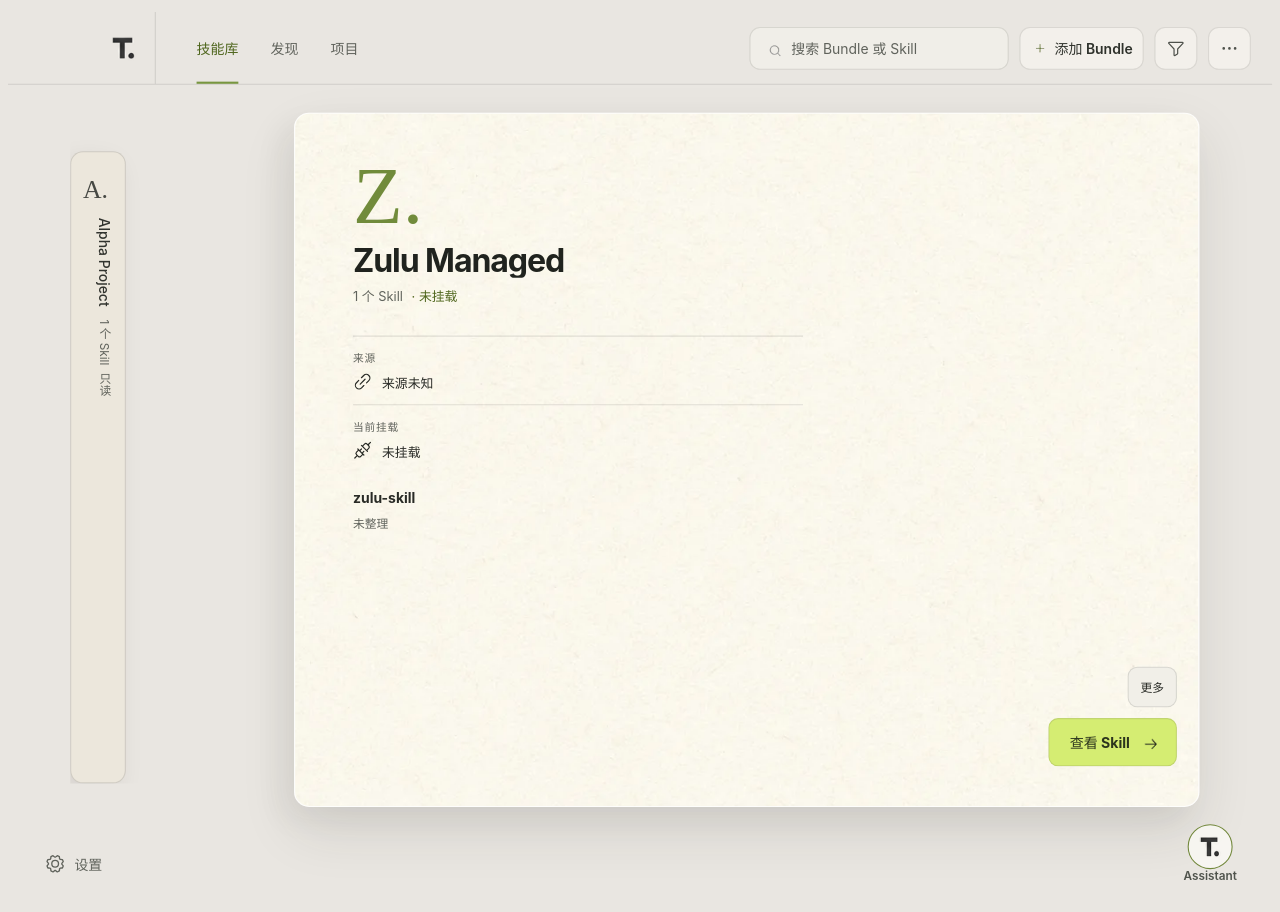
Test: 主题功能等价 › layers 通过共享排序入口按名称浏览并保留当前 Bundle
Expected: the element "Zulu Managed" is shown, [353, 241, 803, 532]
Click the heading named "筛选与排序：全部 Bundle · 管理状态优先".
click(1176, 48)  # box [1154, 26, 1197, 69]
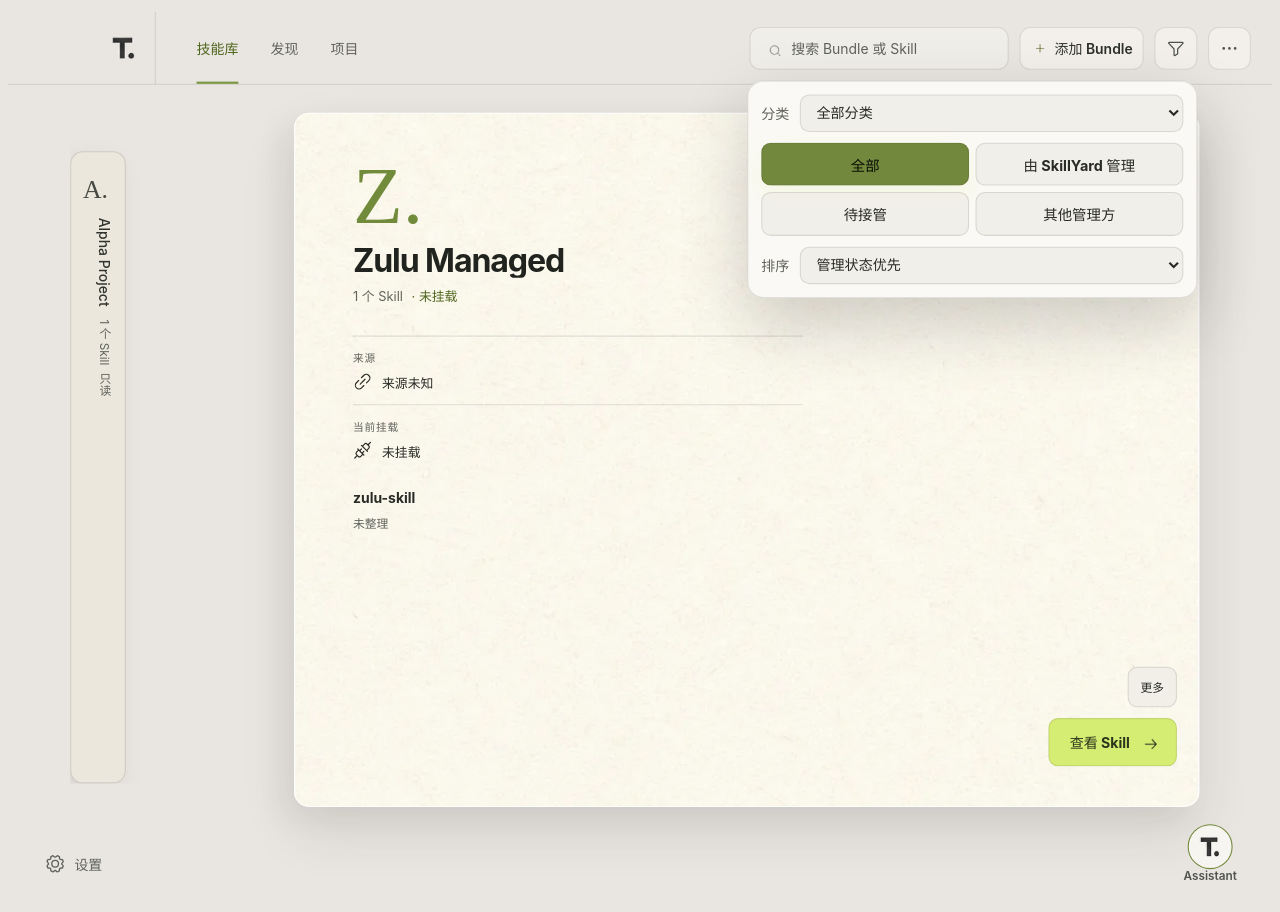
Now the dropdown labelled "排序" shows "管理状态优先"
Select "名称 A–Z" in the dropdown labelled "排序" at (992, 265), box [800, 246, 1183, 284]
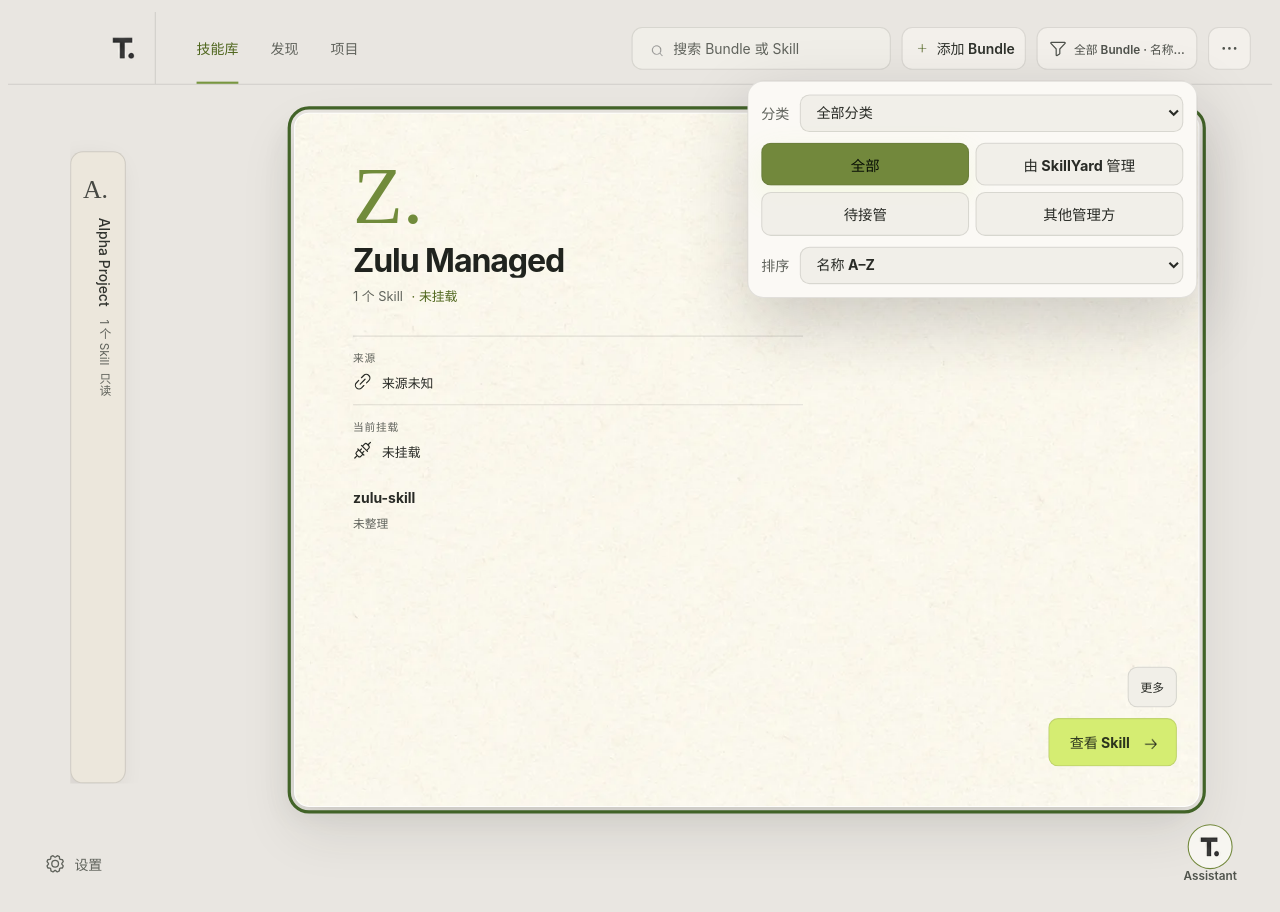
Expected: the element "Zulu Managed" is shown, [353, 241, 803, 532]
Expected: the element with class "layers-library-sheet" is shown, [294, 113, 1199, 807]
Press Home
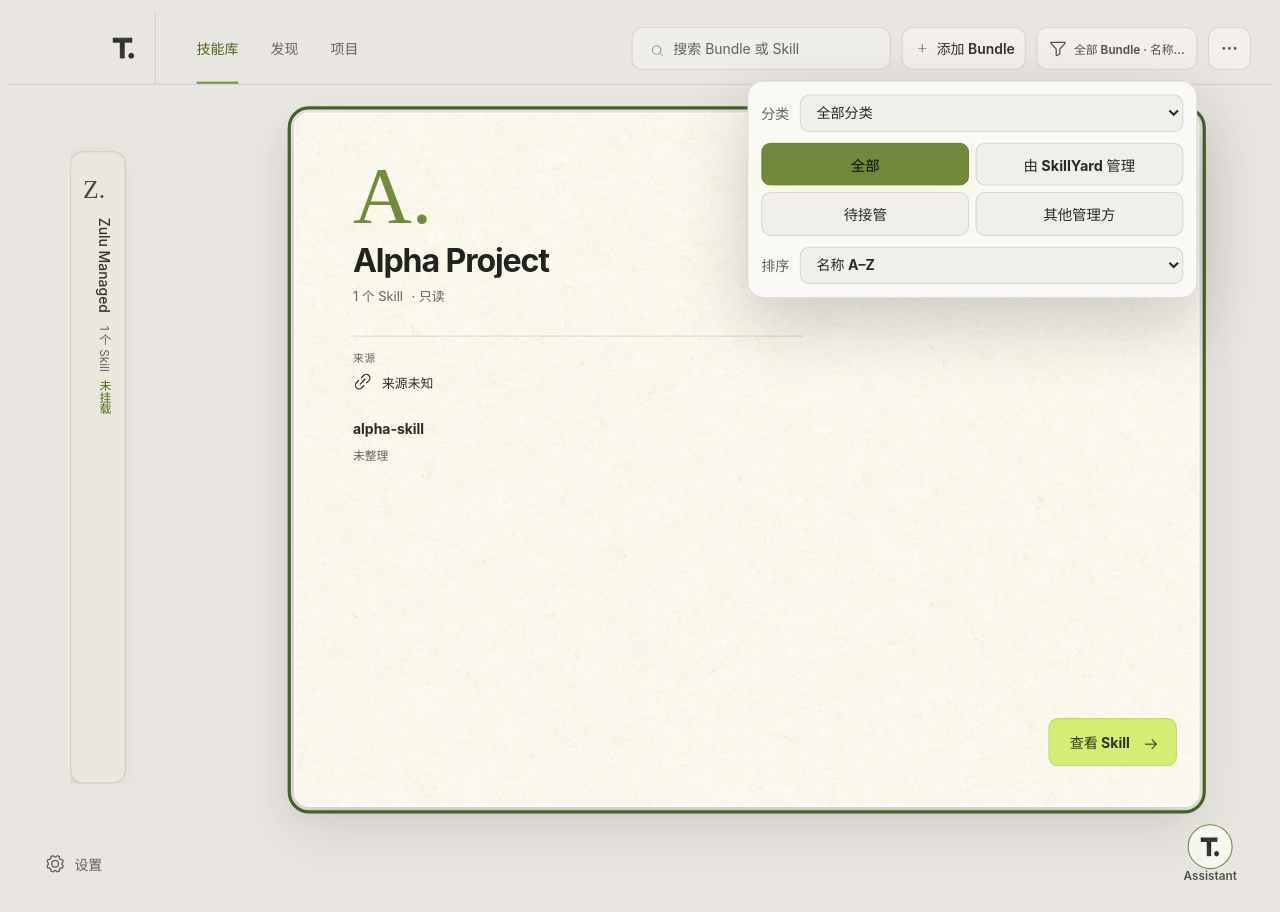
Now the element "Alpha Project" is shown, box [353, 241, 803, 464]
